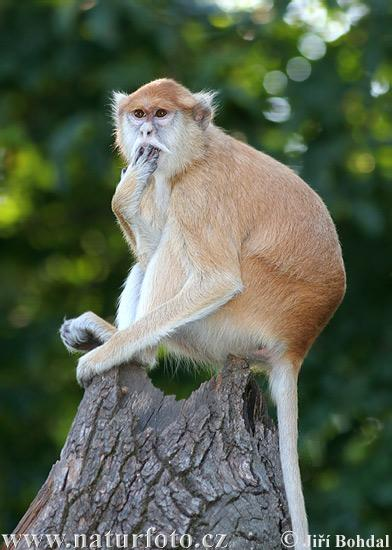monkey: (59, 78, 347, 550)
